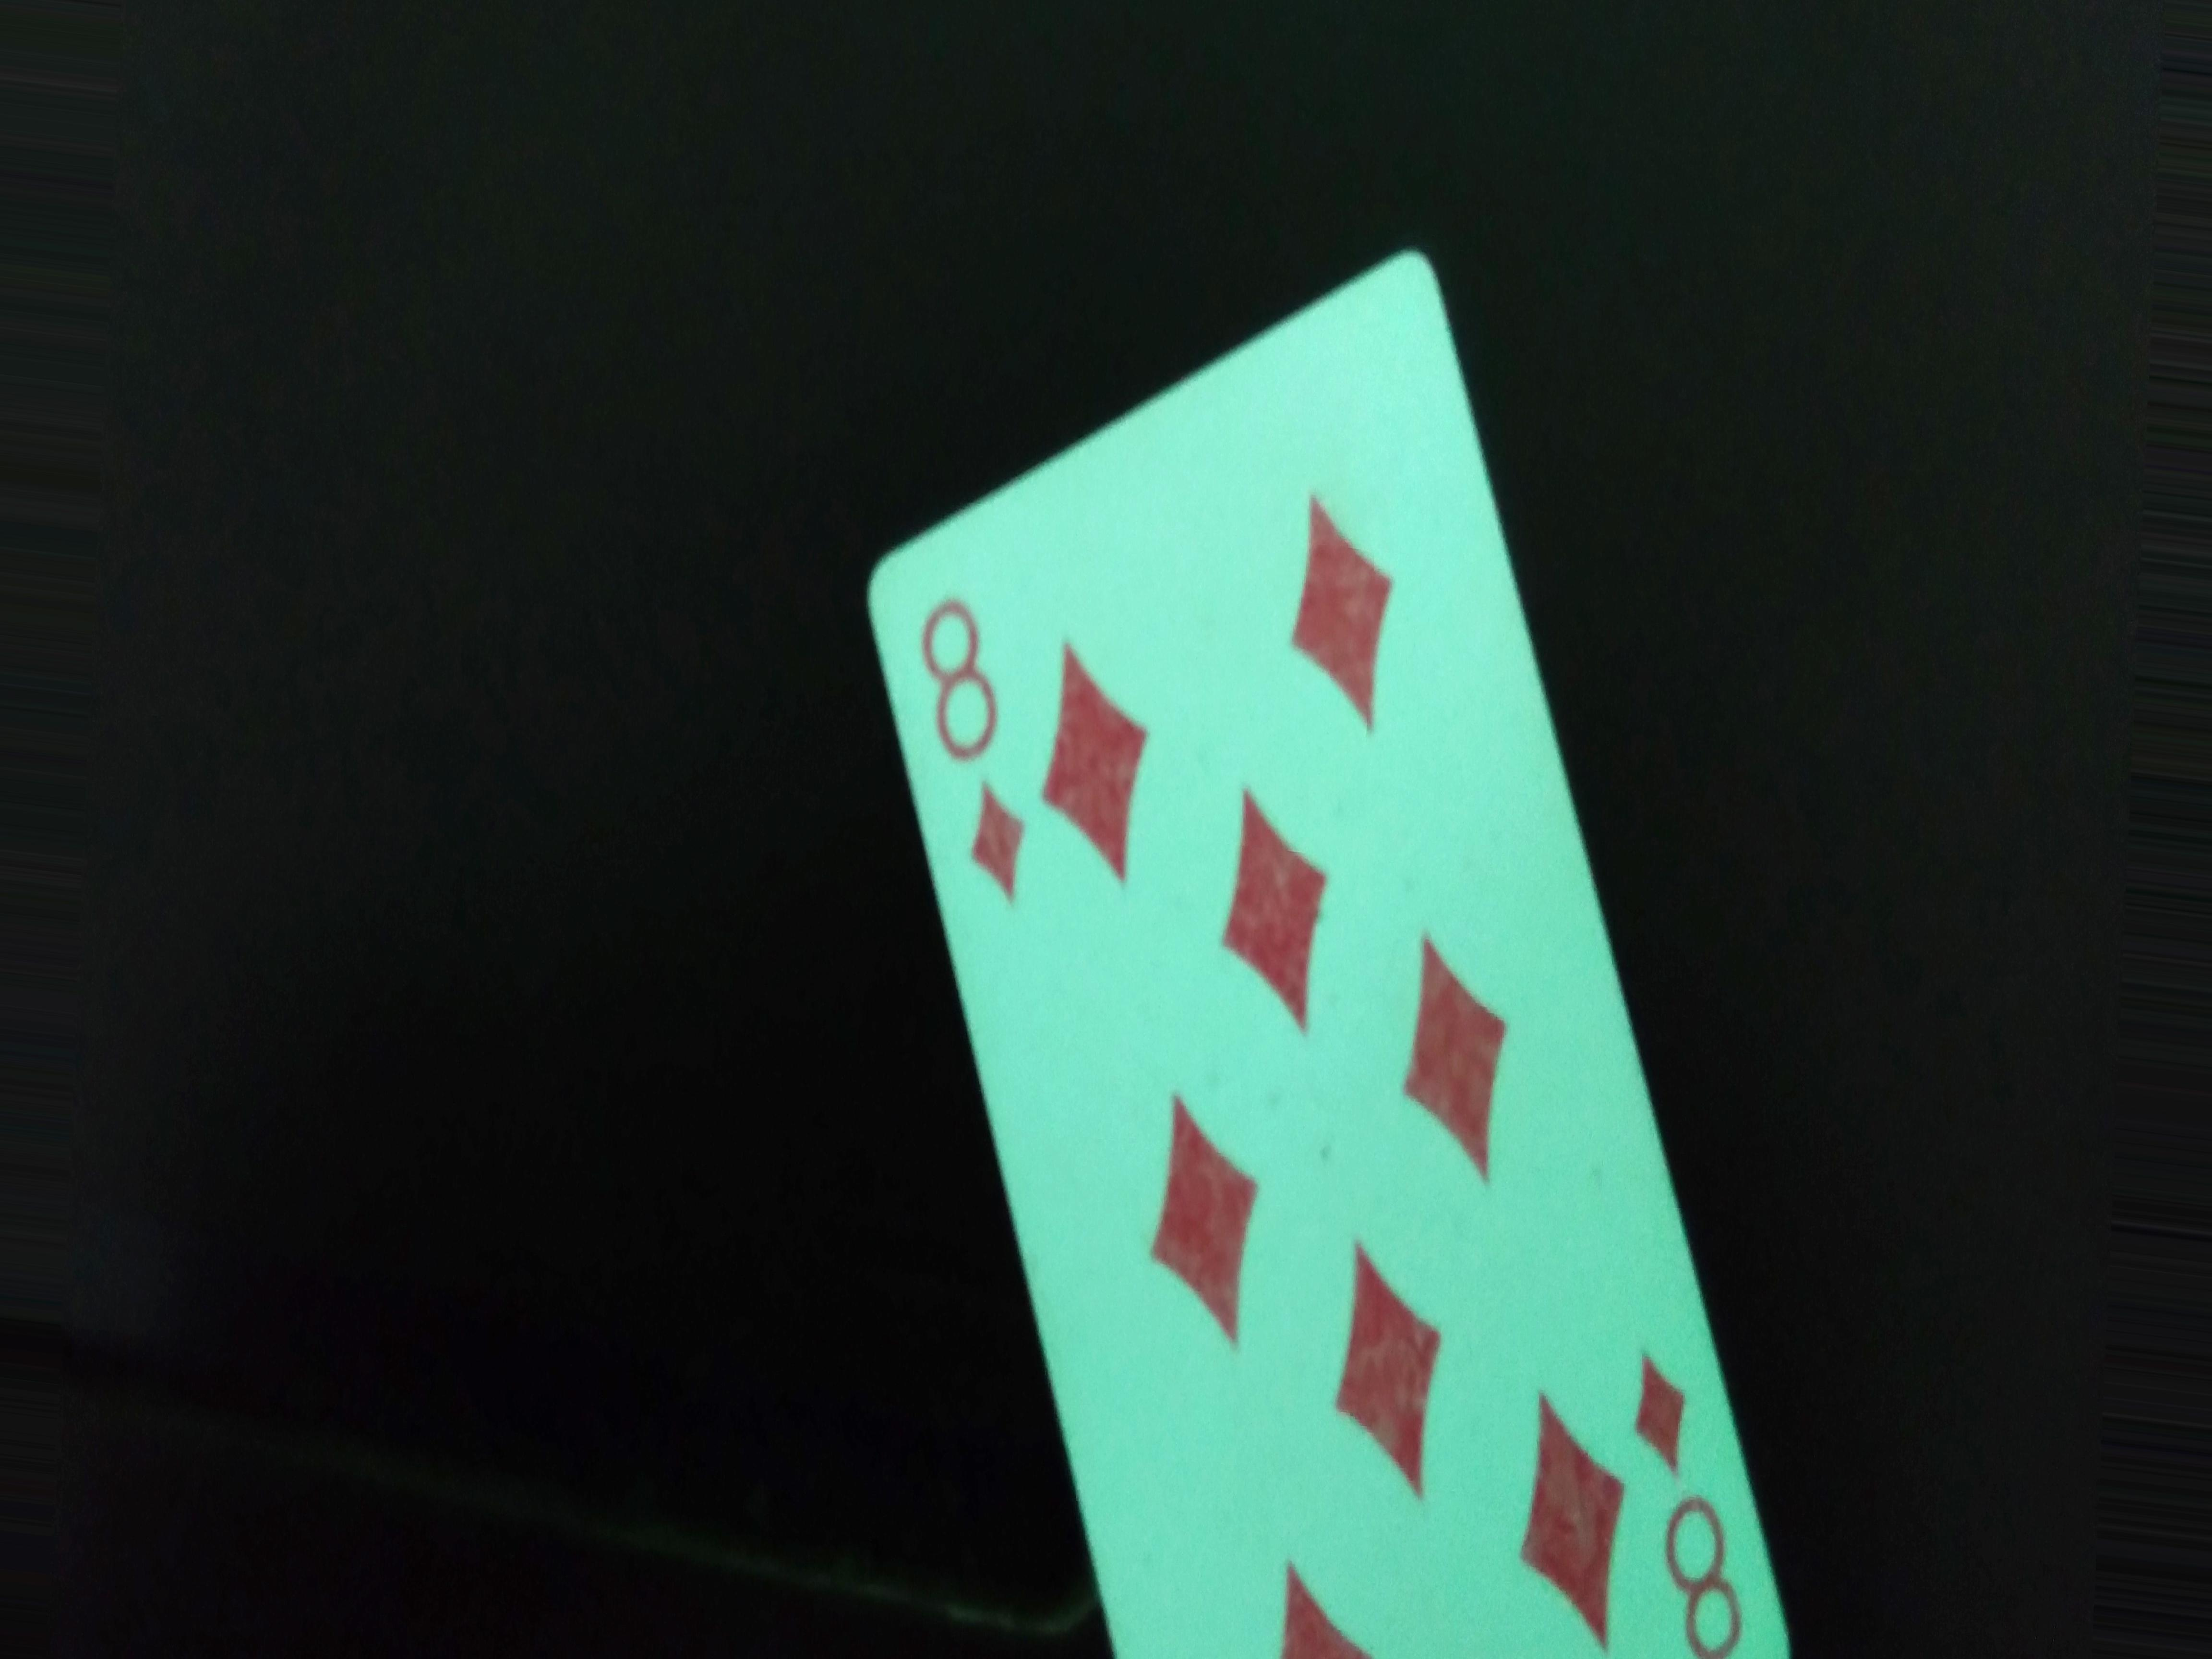8D: (904, 570, 1057, 887)
